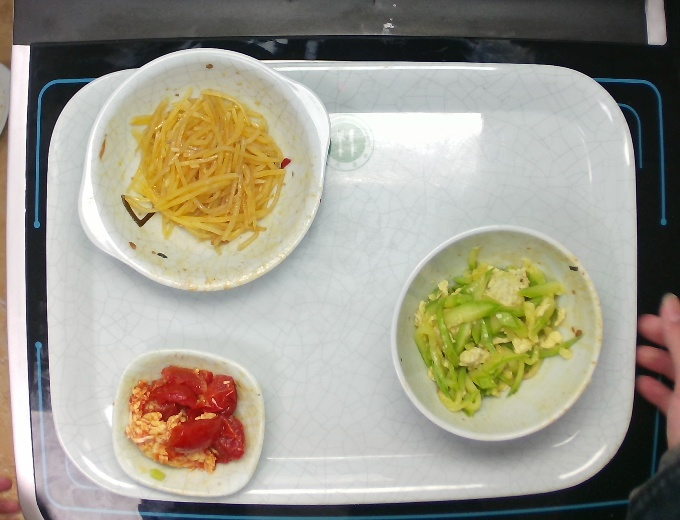JYsf-Fan_Wan: (388, 222, 605, 443)
JYsf-Shuang_Er_Wan: (74, 45, 332, 294)
JYsf-Si_Fang_Die: (109, 347, 268, 500)
